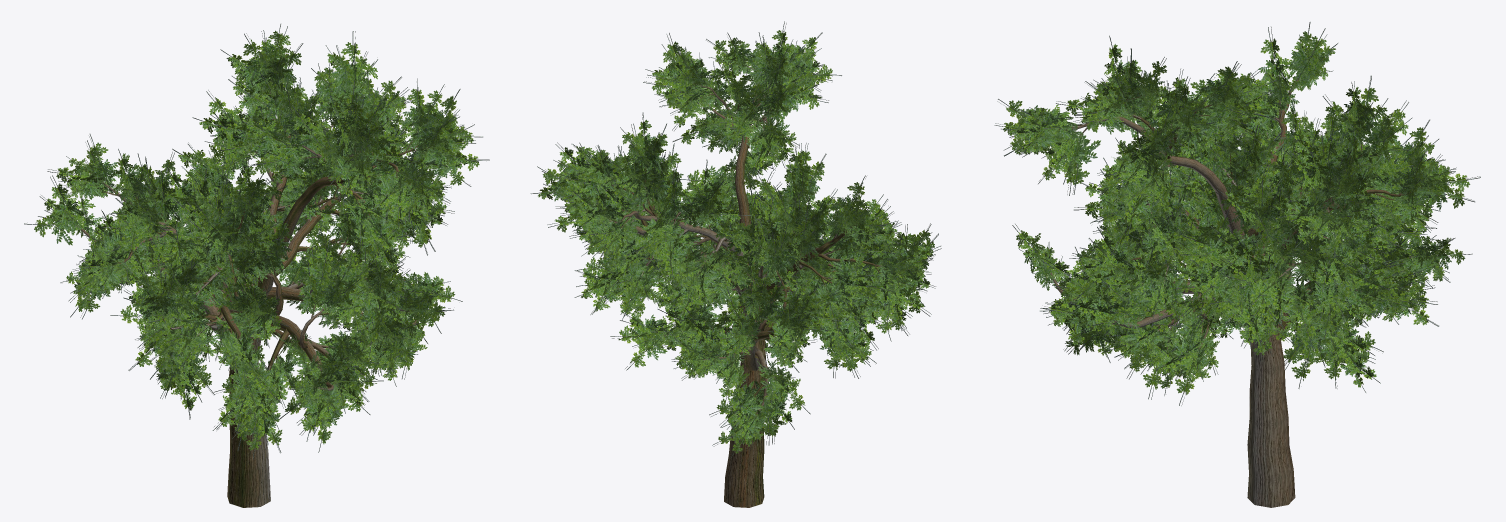
Rendered from eztree-black-walnut-open-b.glb.
The picture shows the model from 3 angles, left to right: view 1: azimuth 30°, elevation 25°; view 2: azimuth 150°, elevation 25°; view 3: azimuth 270°, elevation 25°; orthographic projection. The views are drawn at different scales.
Visible parts, largest first — view 1: eztree-black-walnut-open-b; view 2: eztree-black-walnut-open-b; view 3: eztree-black-walnut-open-b.
Boxes of the visible parts, <box> form: eztree-black-walnut-open-b: <box>24,24,489,507</box>; eztree-black-walnut-open-b: <box>530,21,941,507</box>; eztree-black-walnut-open-b: <box>994,22,1480,507</box>.
Size of the model in its own units: 65.23 by 66.24 by 61.64.
2 materials, 2 textured.
